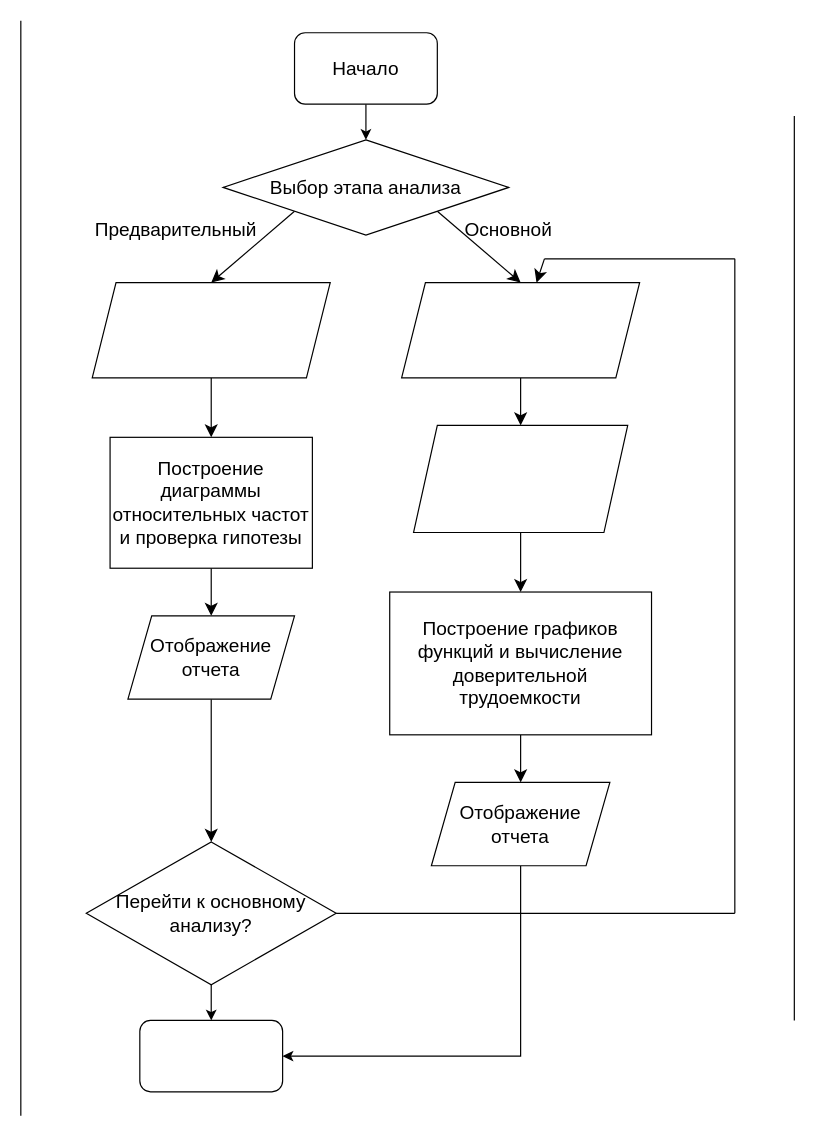
Image size: 816x1138. Some labels were removed from this diagram. Each missing label, with the box of its shape:
Завершение работы: (139, 1019, 283, 1092)
Считывание параметров, необходимых для анализа: (412, 424, 628, 533)
Считывание файла с данными основного анализа: (400, 281, 640, 378)
Считывание файла с данными предварительного анализа: (91, 281, 330, 378)
